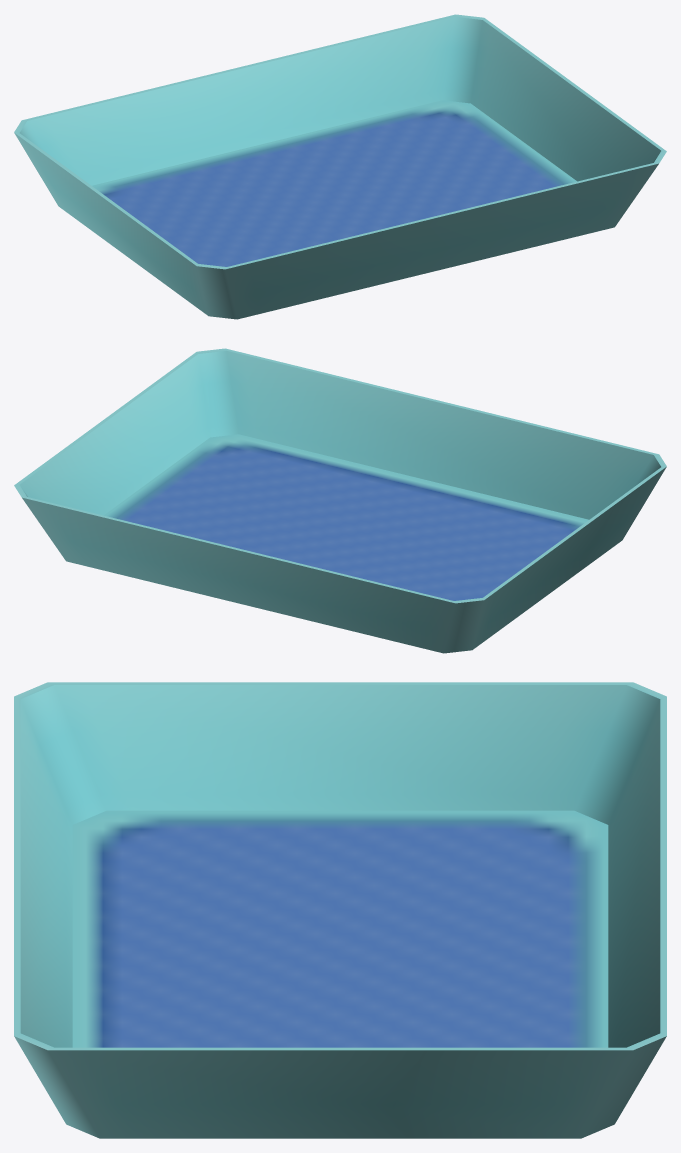
Rendered from jsf_Carton_02.fbx.
3 views of the same model, one above another, from view 1: azimuth 30°, elevation 25°; view 2: azimuth 150°, elevation 25°; view 3: azimuth 270°, elevation 25° (orthographic). The views are drawn at different scales.
Parts seen in each view (by area): view 1: jsf_Carton_02; view 2: jsf_Carton_02; view 3: jsf_Carton_02.
Part boxes in pixels (left/top/right/bottom): jsf_Carton_02: left=14, top=14, right=666, bottom=319; jsf_Carton_02: left=14, top=348, right=666, bottom=653; jsf_Carton_02: left=14, top=682, right=666, bottom=1138.
Size of the model in its own units: 20 by 2.8 by 15.
